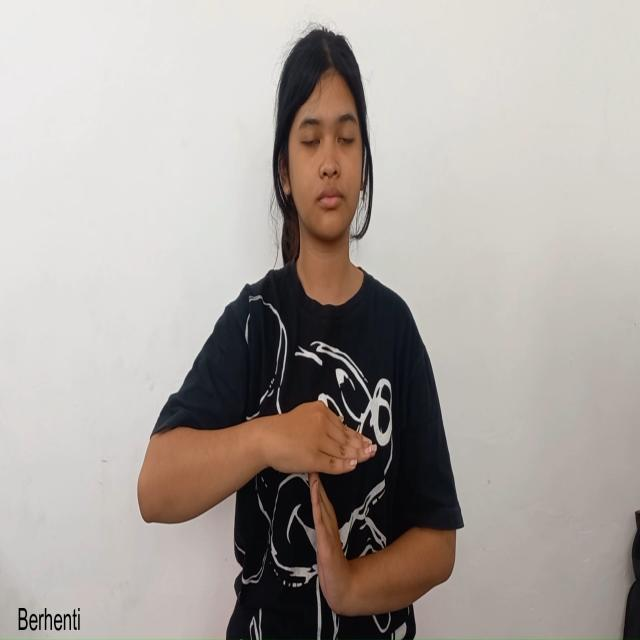Berhenti -BISINDO-: (243, 392, 389, 628)
